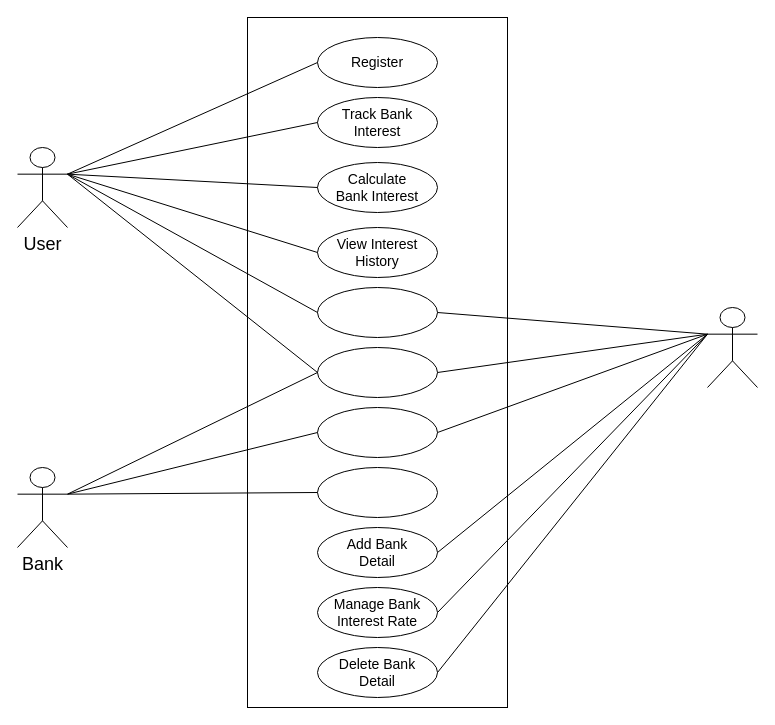
Some shapes in this 775 by 725 pixel diagram are drawn without their labels. Each missing label, with the centre of its shape:
"Admin" goes at point (732, 347).
"Edit Bank Interest Rate" goes at point (377, 432).
"Login" goes at point (377, 372).
"View Bank Interest Rate" goes at point (377, 312).
"View Request History" goes at point (377, 492).
